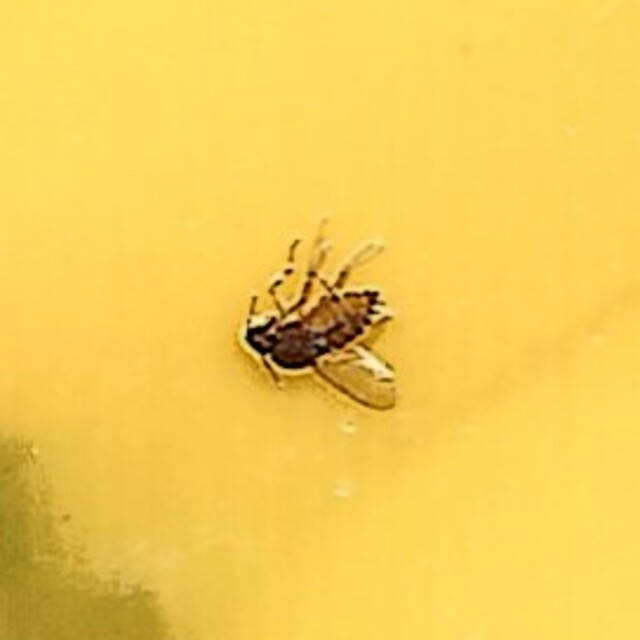Brachycera: (235, 226, 405, 414)
